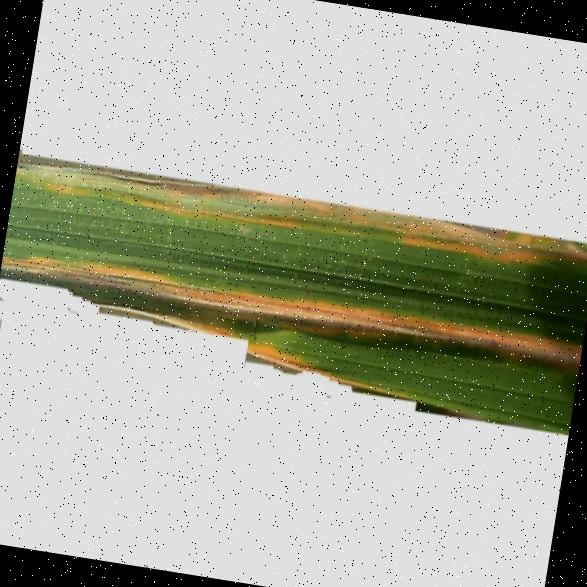Bacteria_Leaf_Blight: (4, 231, 584, 410), (21, 122, 587, 297)
